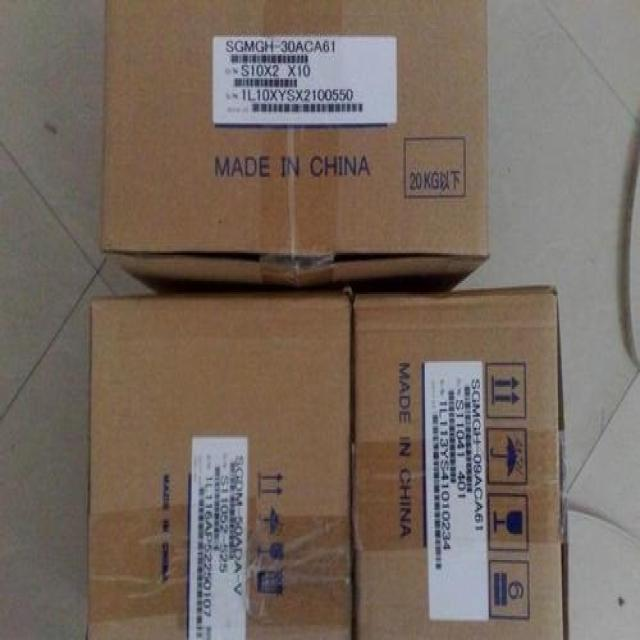box: (99, 0, 490, 294), (86, 296, 353, 640), (352, 285, 570, 640)
